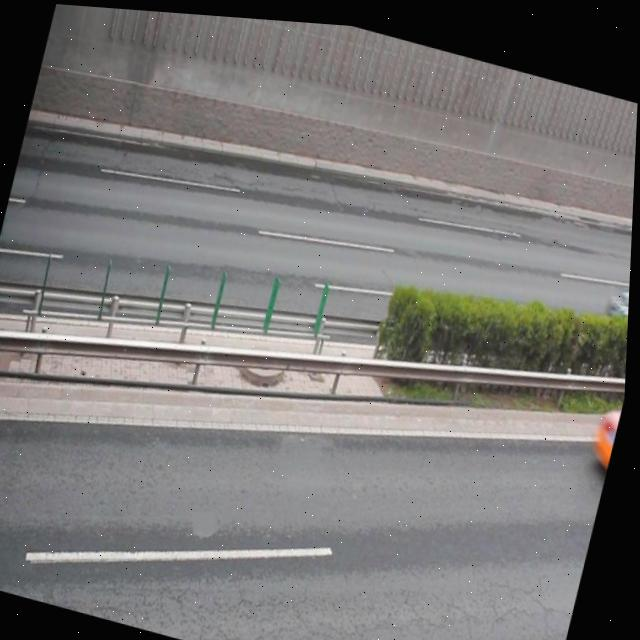car: (601, 251, 632, 337)
